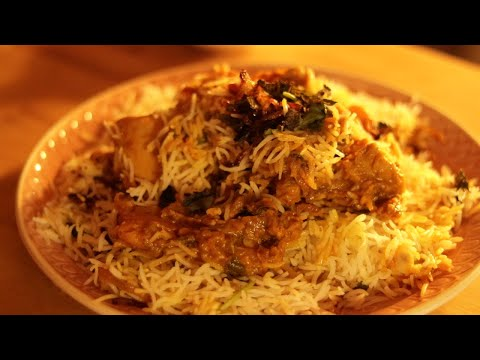Biryani: (21, 62, 466, 306)
